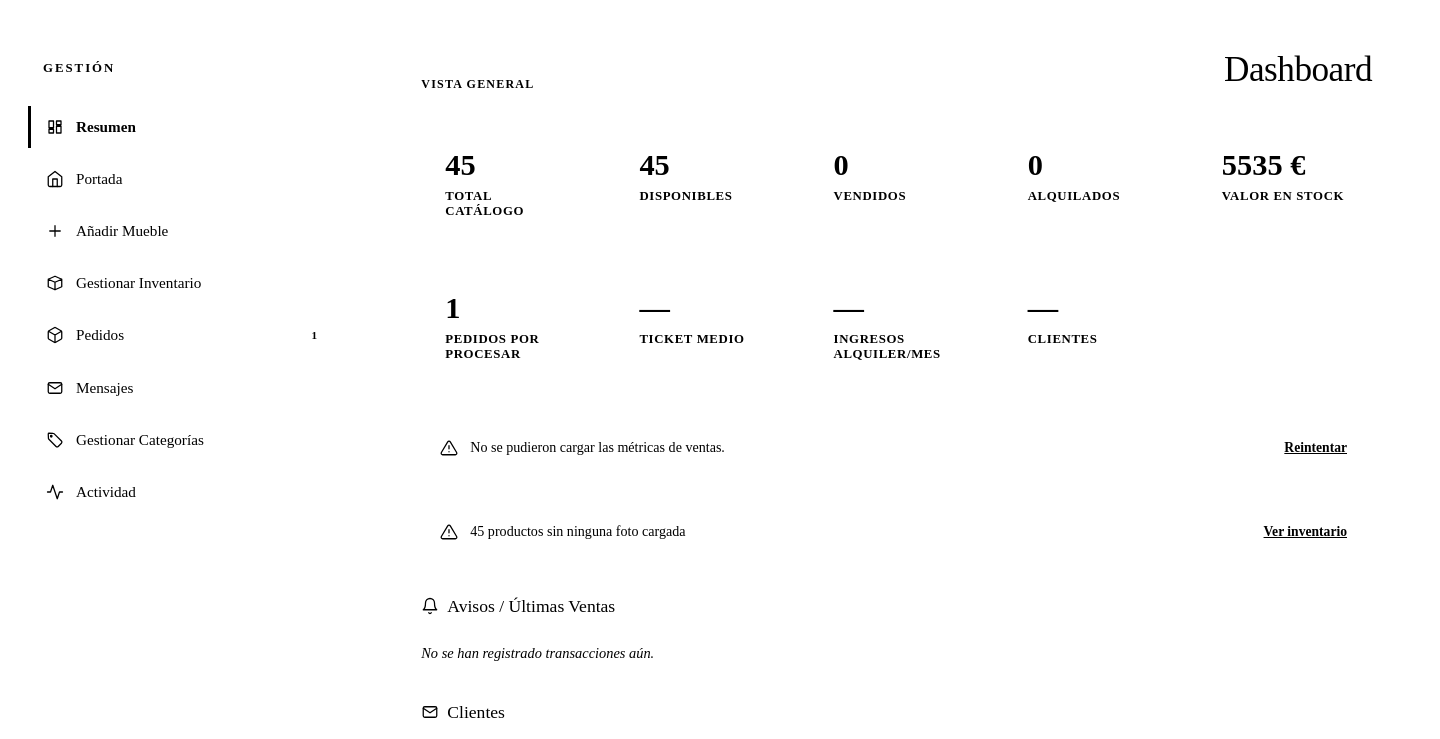
Test case: Navegación — barra lateral › cada botón abre su pestaña y queda marcado como activo (solo él)
Click the button "Añadir Mueble" at coordinates (122, 230), box [28, 210, 341, 252]
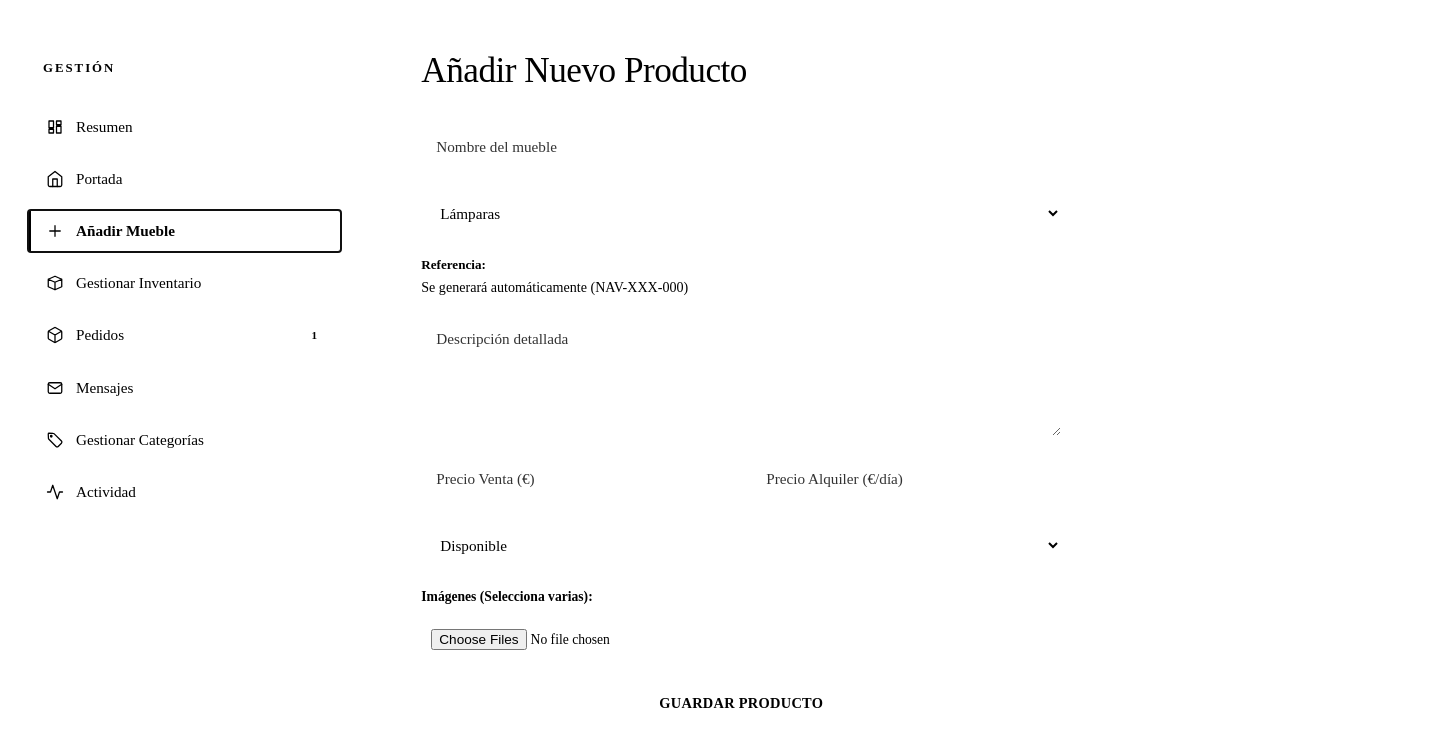
expect the heading "Añadir Nuevo Producto" is shown: met, box [421, 48, 747, 94]
Click the button "Gestionar Inventario" at coordinates (185, 283), box [28, 262, 341, 304]
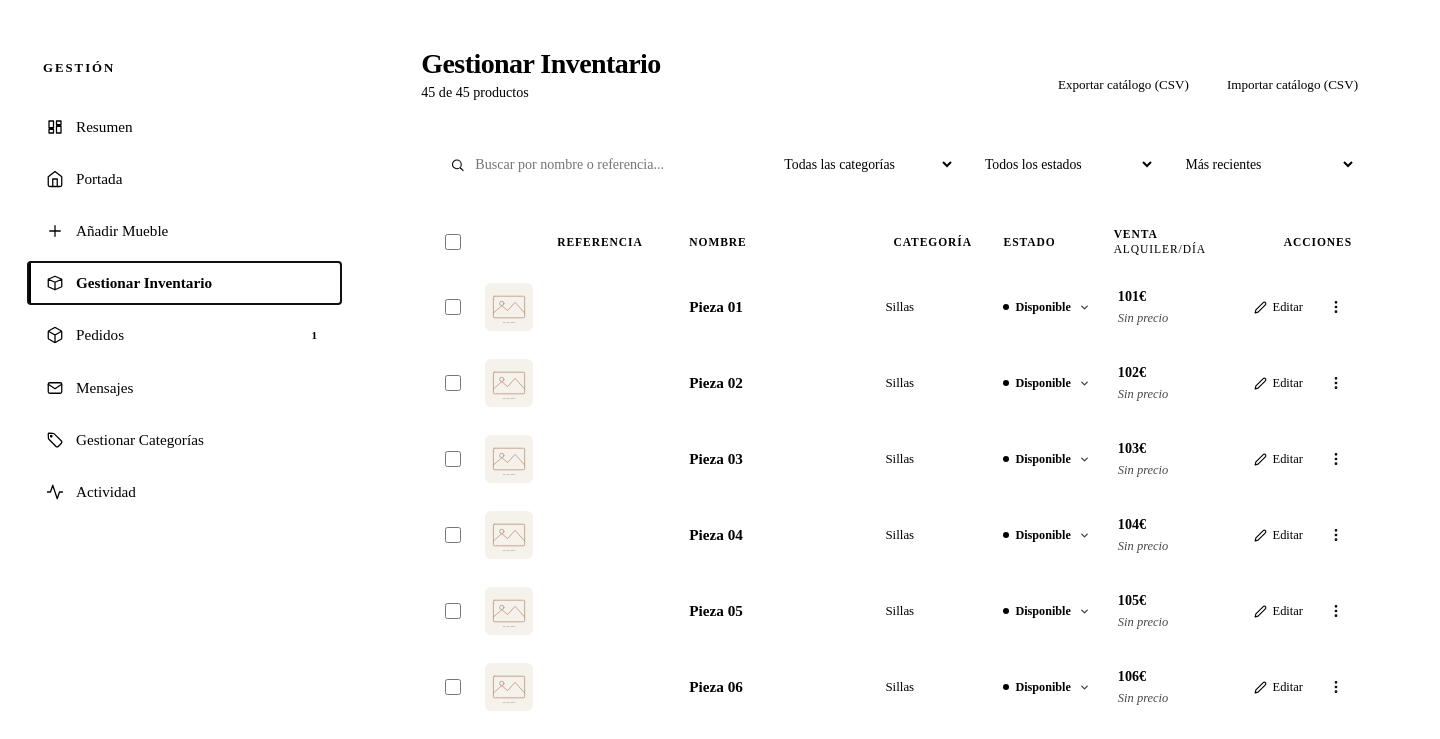
expect the text "Gestionar Inventario" is shown: met, box [76, 274, 212, 292]
Click the button "Pedidos 1" at coordinates (100, 335), box [28, 314, 341, 357]
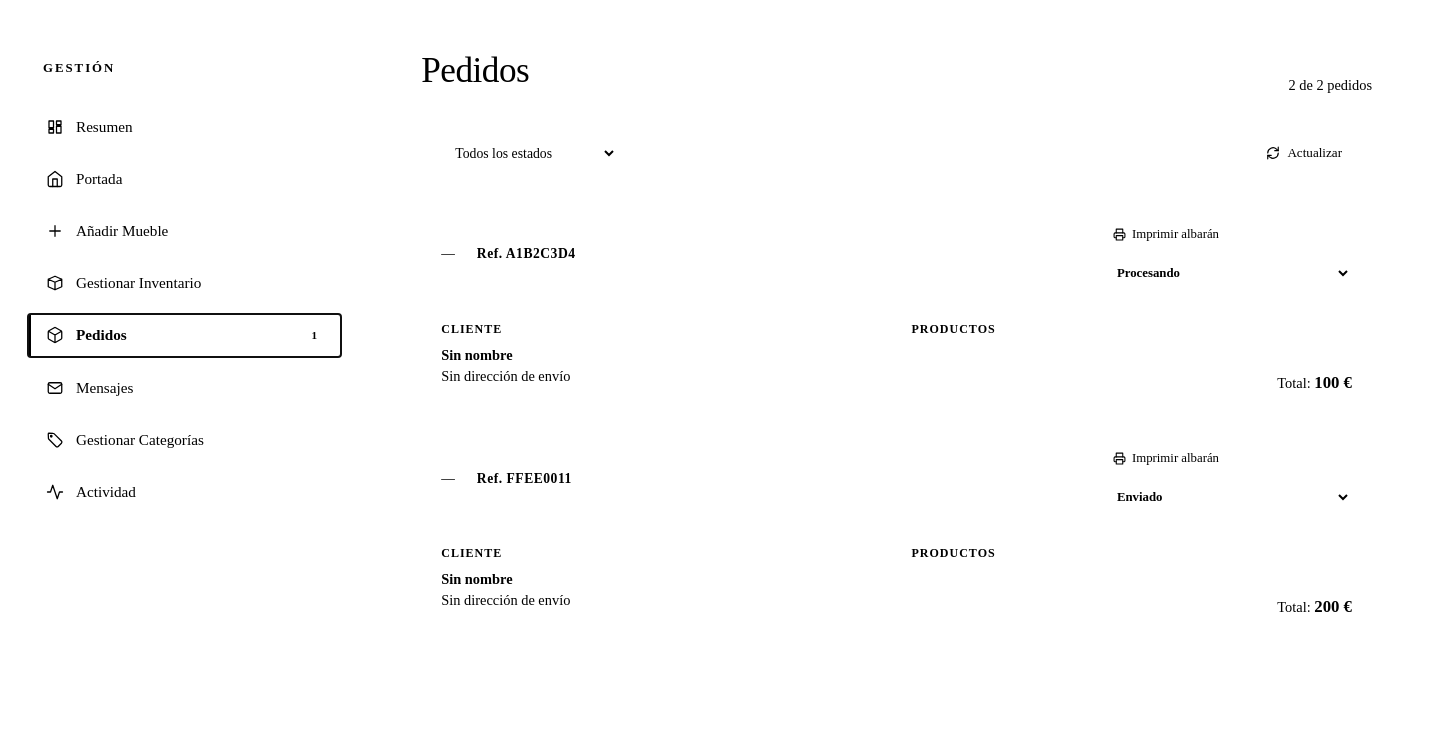
expect the text "Pedidos" is shown: met, box [76, 326, 127, 344]
Click the button "Gestionar Categorías" at coordinates (185, 440), box [28, 419, 341, 461]
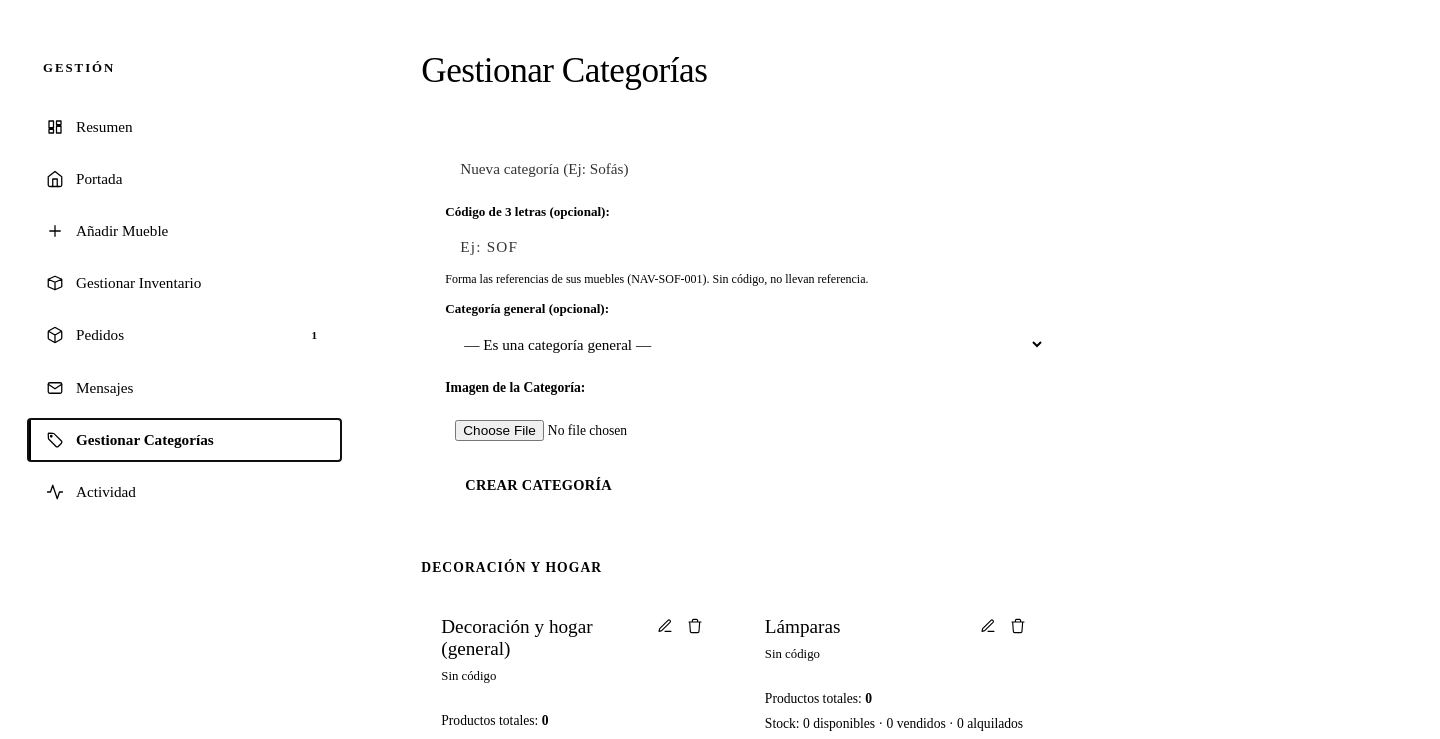
expect the text "Gestionar Categorías" is shown: met, box [76, 431, 214, 449]
Click the button "Actividad" at coordinates (106, 492), box [28, 471, 341, 513]
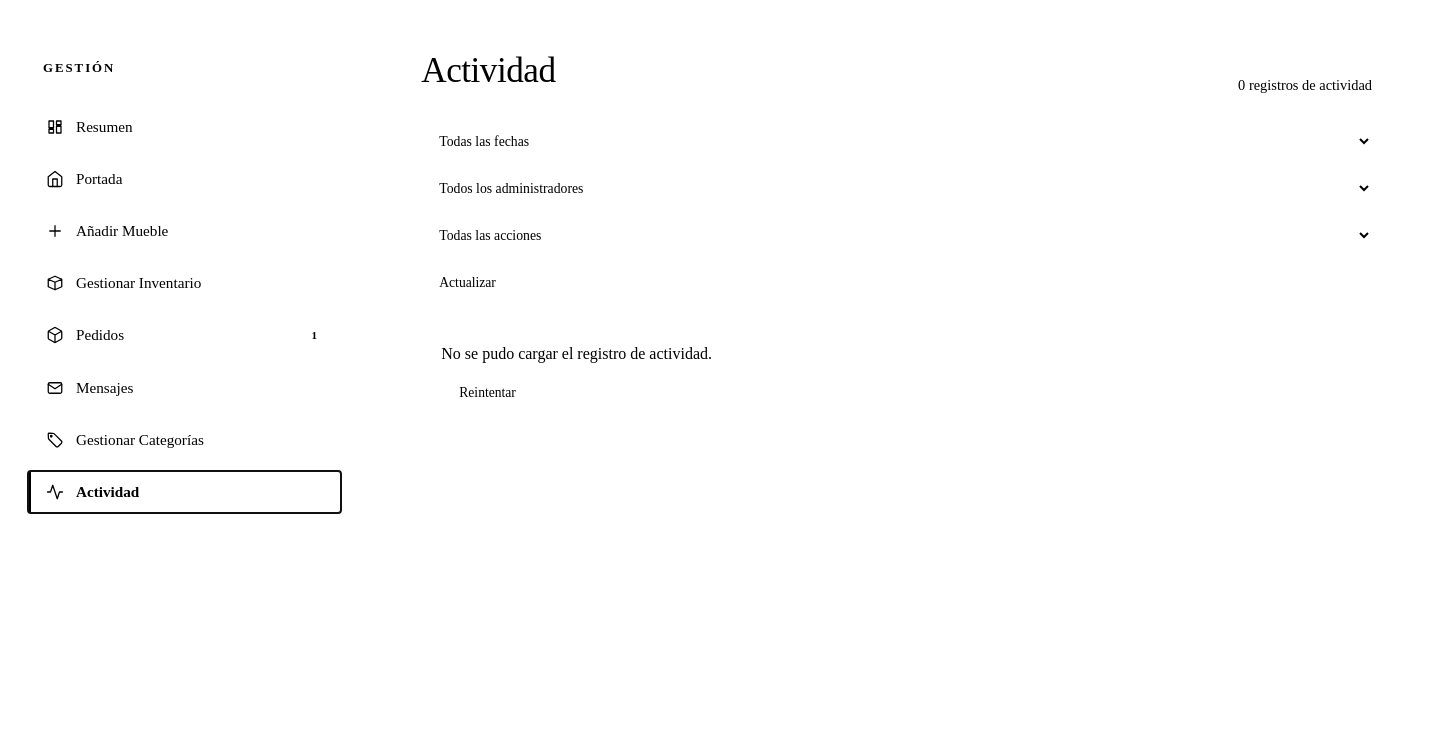
expect the text "Actividad" is shown: met, box [76, 483, 139, 501]
Click the button "Resumen" at coordinates (104, 126), box [28, 106, 341, 148]
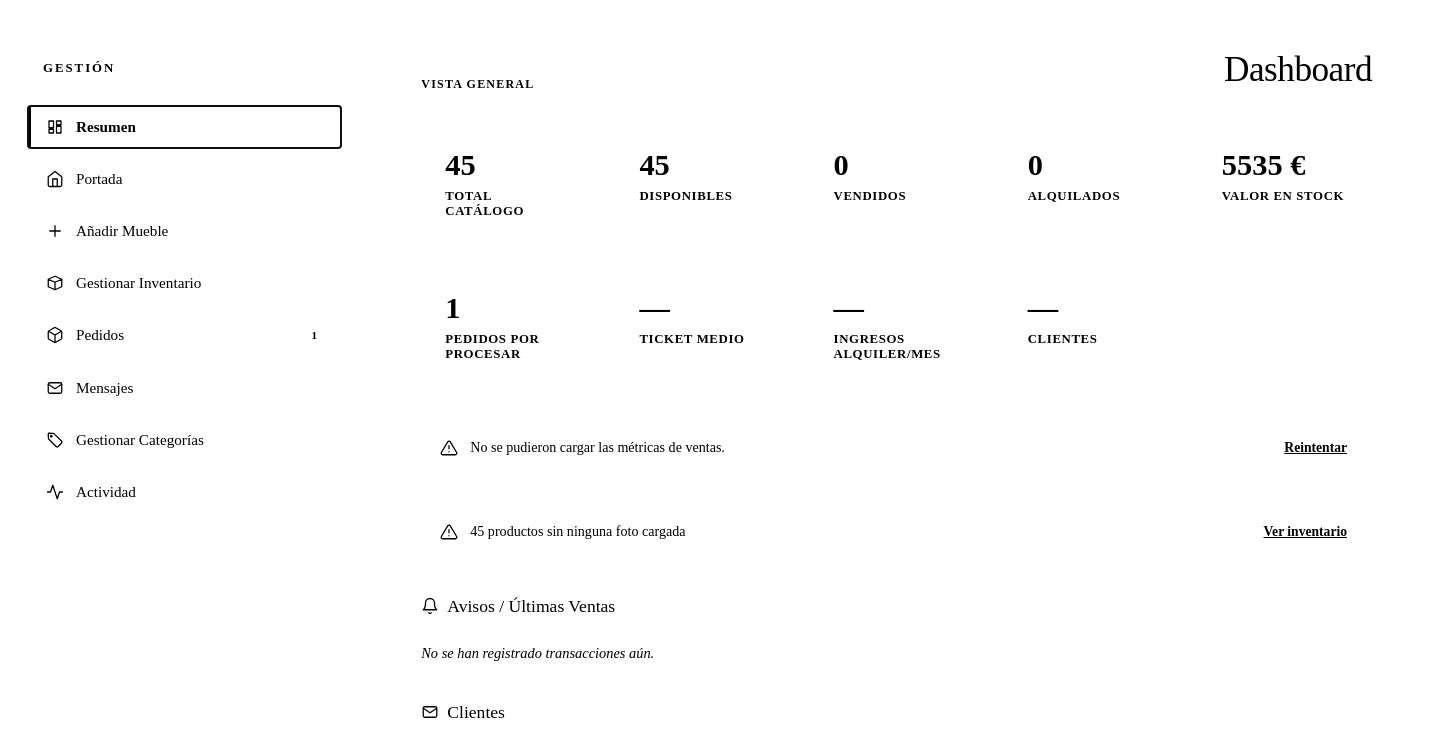
expect the heading "Dashboard" is shown: met, box [1224, 48, 1372, 92]
